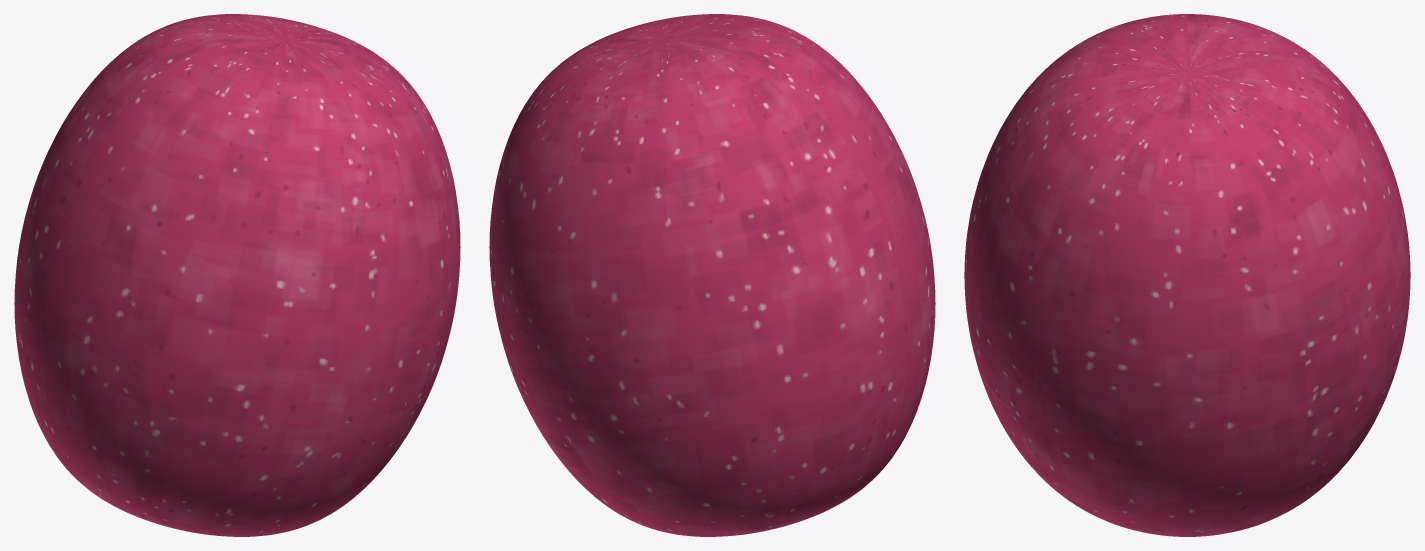
File: prickly-pear.glb
3 views of the same model, side by side, from view 1: azimuth 30°, elevation 25°; view 2: azimuth 150°, elevation 25°; view 3: azimuth 270°, elevation 25° (orthographic).
Bounding box in the file's own units: 0.1292 × 0.1493 × 0.127.
Materials: 1 (1 with a texture image).
